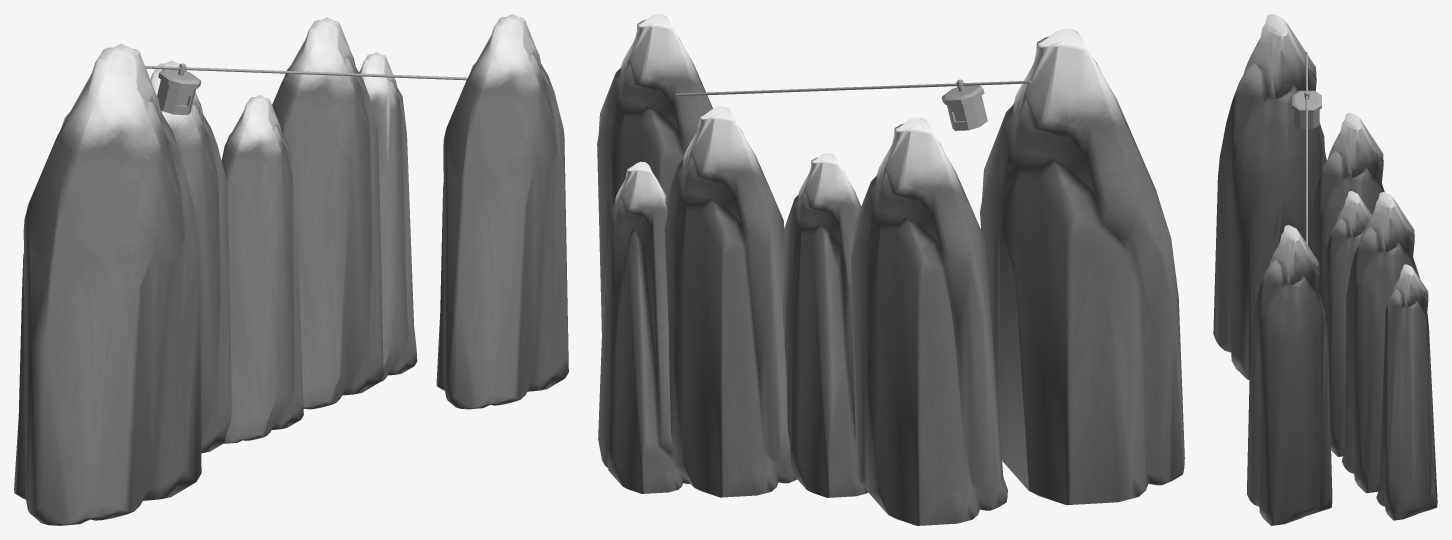
The model's file is Montañas_Fondo.fbx.
The picture shows the model from 3 angles, left to right: view 1: azimuth 30°, elevation 25°; view 2: azimuth 150°, elevation 25°; view 3: azimuth 270°, elevation 25°; orthographic projection. The views are drawn at different scales.
Parts seen in each view (by area): view 1: Mountain2, Mountain3, Mountain5, Mountain6, Mountain7, Mountain4, Teleferico, Cuerda; view 2: Mountain2, Mountain7, Mountain5, Mountain6, Mountain4, Mountain3, Teleferico, Cuerda; view 3: Mountain2, Mountain3, Mountain5, Mountain4, Mountain7, Mountain6, Teleferico, Cuerda.
Part boxes in pixels (x1,y1,x2,y2): Mountain2: (14, 43, 201, 525); Mountain3: (436, 14, 568, 409); Mountain5: (272, 17, 383, 409); Mountain6: (221, 95, 303, 443); Mountain7: (150, 60, 231, 453); Mountain4: (359, 52, 417, 381); Teleferico: (157, 63, 201, 114); Cuerda: (145, 65, 467, 80); Mountain2: (980, 28, 1184, 505); Mountain7: (851, 117, 1007, 525); Mountain5: (664, 106, 796, 497); Mountain6: (782, 153, 867, 497); Mountain4: (598, 161, 690, 493); Mountain3: (597, 14, 712, 331); Teleferico: (941, 79, 987, 130); Cuerda: (675, 80, 1031, 96); Mountain2: (1213, 14, 1326, 379); Mountain3: (1247, 225, 1332, 525); Mountain5: (1342, 192, 1419, 493); Mountain4: (1376, 264, 1437, 520); Mountain7: (1309, 112, 1384, 310); Mountain6: (1325, 191, 1371, 456); Teleferico: (1292, 90, 1321, 128); Cuerda: (1305, 52, 1307, 244).
Size of the model in its own units: 96.67 by 78.06 by 43.41.
